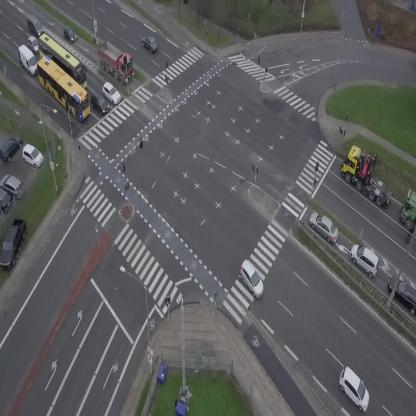bus: (28, 52, 100, 123), (29, 31, 96, 93)
car: (332, 364, 380, 414), (344, 240, 386, 279), (233, 258, 271, 300), (305, 208, 344, 245), (98, 80, 124, 107), (86, 90, 112, 117), (23, 13, 46, 37), (58, 24, 79, 45), (140, 33, 160, 55), (27, 35, 37, 54)
lorry: (333, 141, 409, 210), (88, 35, 142, 87), (12, 43, 43, 79), (401, 191, 416, 231)
